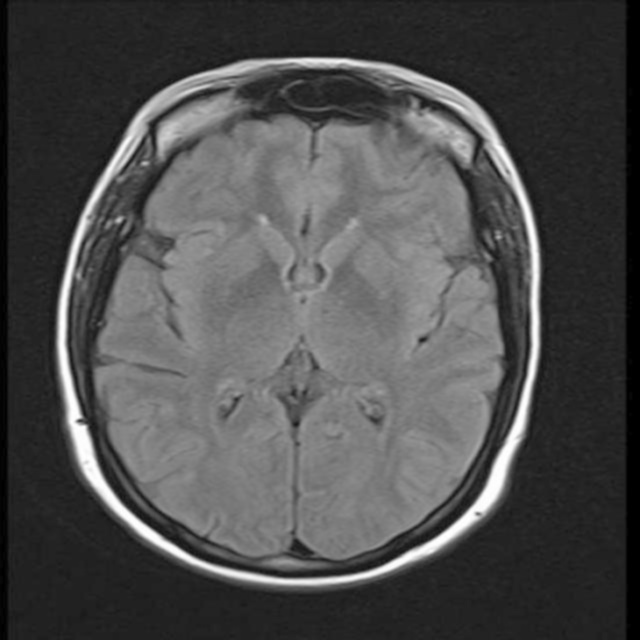glioma tumor: (110, 144, 436, 500)
